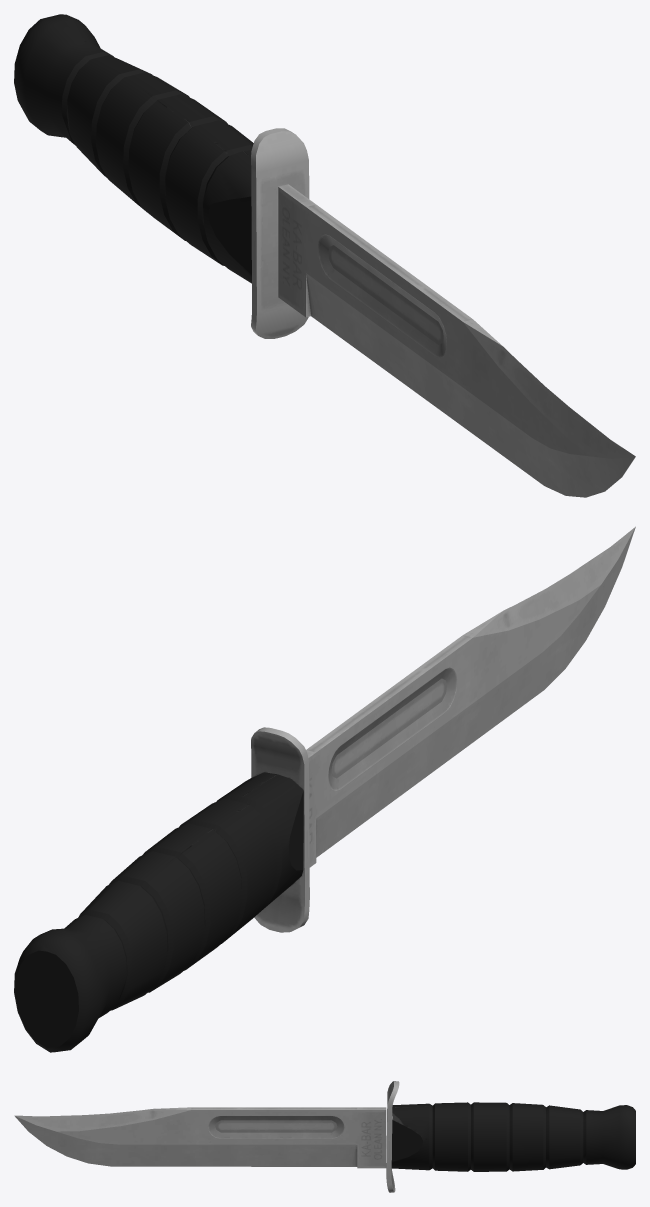
The model's file is Kabar.glb.
3 views of the same model, one above another, from view 1: azimuth 30°, elevation 25°; view 2: azimuth 150°, elevation 25°; view 3: azimuth 270°, elevation 25° (orthographic). The views are drawn at different scales.
Visible parts, largest first — view 1: Kabar_upd; view 2: Kabar_upd; view 3: Kabar_upd.
Boxes of the visible parts, x1,y1,x2,y2 form: Kabar_upd: (14, 14, 635, 497); Kabar_upd: (14, 526, 635, 1052); Kabar_upd: (14, 1081, 635, 1192).
Bounding box in the file's own units: 0.0228 × 0.0534 × 0.2818.
Materials: 1 (1 with a texture image).
